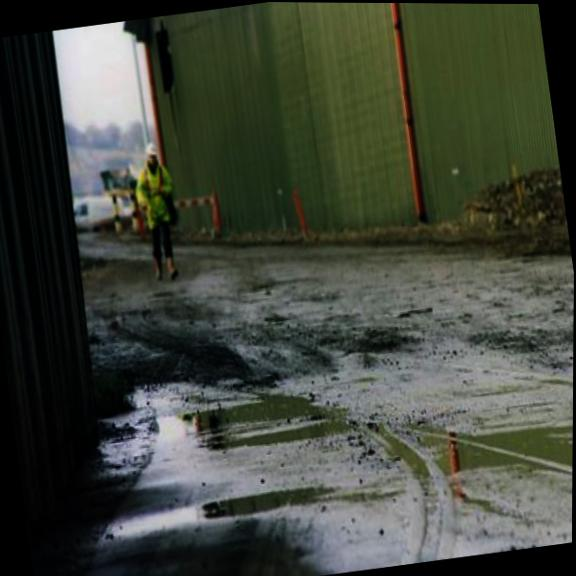safety_vest: (131, 161, 181, 233)
